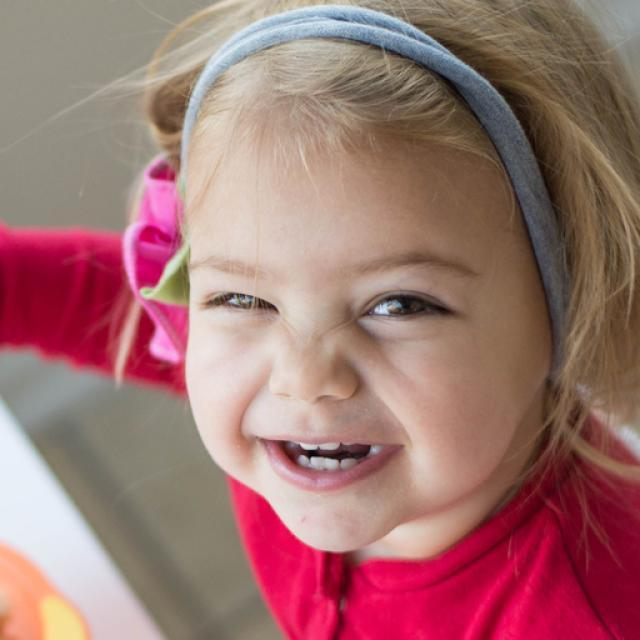happy: (187, 109, 545, 554)
